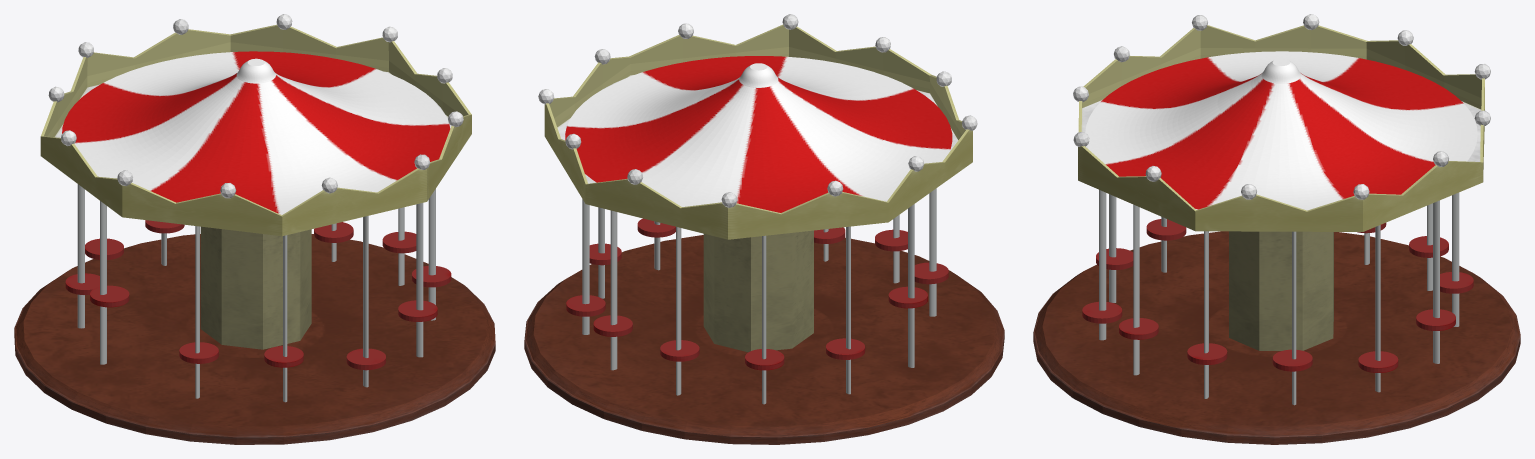
File: carousel.fbx
3 views of the same model, side by side, from view 1: azimuth 30°, elevation 25°; view 2: azimuth 150°, elevation 25°; view 3: azimuth 270°, elevation 25° (orthographic).
Parts seen in each view (by area): view 1: Cylinder.012; view 2: Cylinder.012; view 3: Cylinder.012.
Part boxes in pixels (x1,y1,x2,y2): Cylinder.012: (14,14,495,444); Cylinder.012: (524,14,1004,444); Cylinder.012: (1033,14,1520,444).
Bounding box in the file's own units: 2444 × 1555 × 2444.
